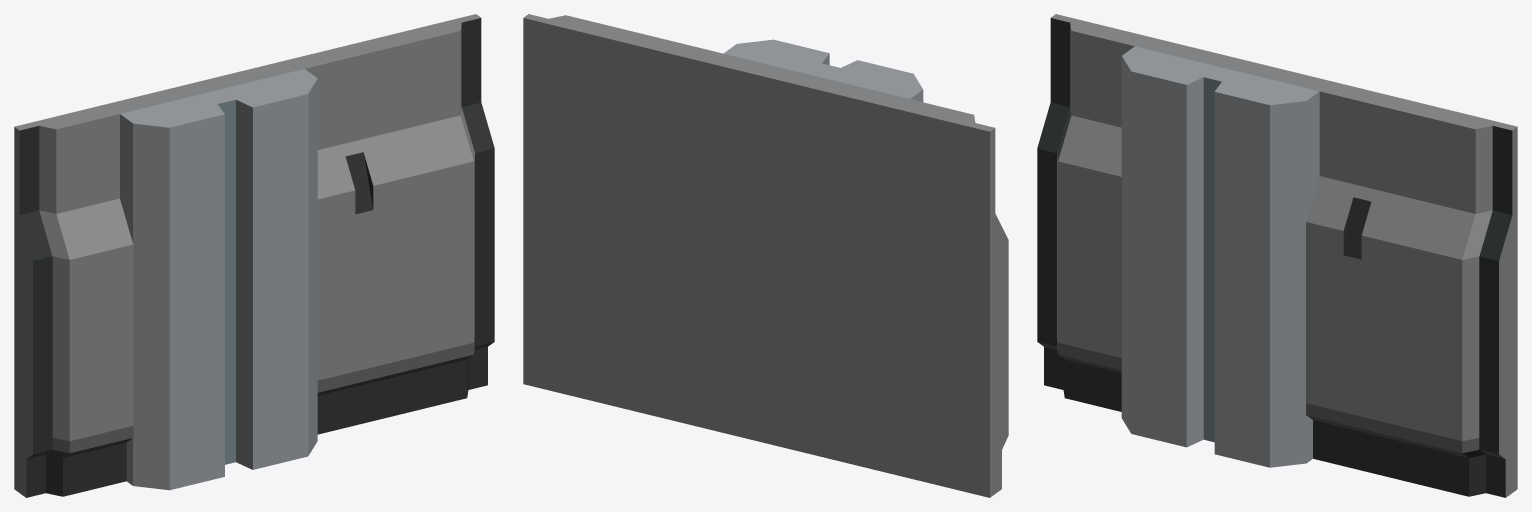
Rendered from Wall_type_B_042.fbx.
3 views of the same model, side by side, from view 1: azimuth 30°, elevation 25°; view 2: azimuth 150°, elevation 25°; view 3: azimuth 330°, elevation 25° (orthographic).
Parts seen in each view (by area): view 1: Wall_type_B_042; view 2: Wall_type_B_042; view 3: Wall_type_B_042.
Boxes of the visible parts, box(x1,y1,x2,y2) form: Wall_type_B_042: box(14, 14, 494, 497); Wall_type_B_042: box(523, 14, 1008, 497); Wall_type_B_042: box(1037, 14, 1517, 497).
Bounding box in the file's own units: 200 × 30 × 150.
